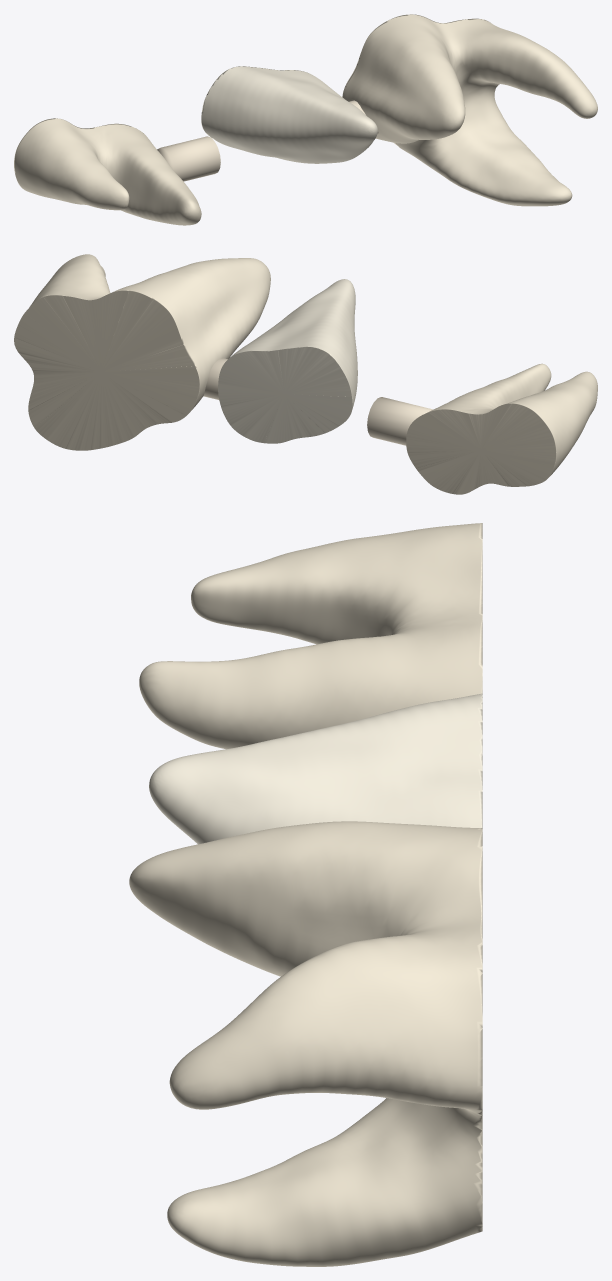
The model's file is r3-bridge-24-26-connected.glb.
The picture shows the model from 3 angles, top to bottom: view 1: azimuth 30°, elevation 25°; view 2: azimuth 150°, elevation 25°; view 3: azimuth 270°, elevation 25°; orthographic projection. The views are drawn at different scales.
Parts seen in each view (by area): view 1: Abutment crown B · 26, Abutment crown A · 24, Pontic · 25, Connector · 24–25; view 2: Abutment crown B · 26, Abutment crown A · 24, Pontic · 25, Connector · 24–25, Connector · 25–26; view 3: Abutment crown B · 26, Abutment crown A · 24, Pontic · 25.
Boxes of the visible parts, x1,y1,x2,y2 form: Abutment crown B · 26: [342, 14, 597, 206]; Abutment crown A · 24: [14, 118, 201, 225]; Pontic · 25: [201, 66, 377, 163]; Connector · 24–25: [157, 136, 220, 181]; Abutment crown B · 26: [14, 254, 270, 450]; Abutment crown A · 24: [406, 363, 597, 494]; Pontic · 25: [218, 279, 357, 443]; Connector · 24–25: [367, 397, 432, 445]; Connector · 25–26: [203, 358, 227, 399]; Abutment crown B · 26: [129, 821, 482, 1266]; Abutment crown A · 24: [139, 523, 482, 749]; Pontic · 25: [149, 693, 482, 844].
Bounding box in the file's own units: 25.09 × 8.09 × 7.49.
